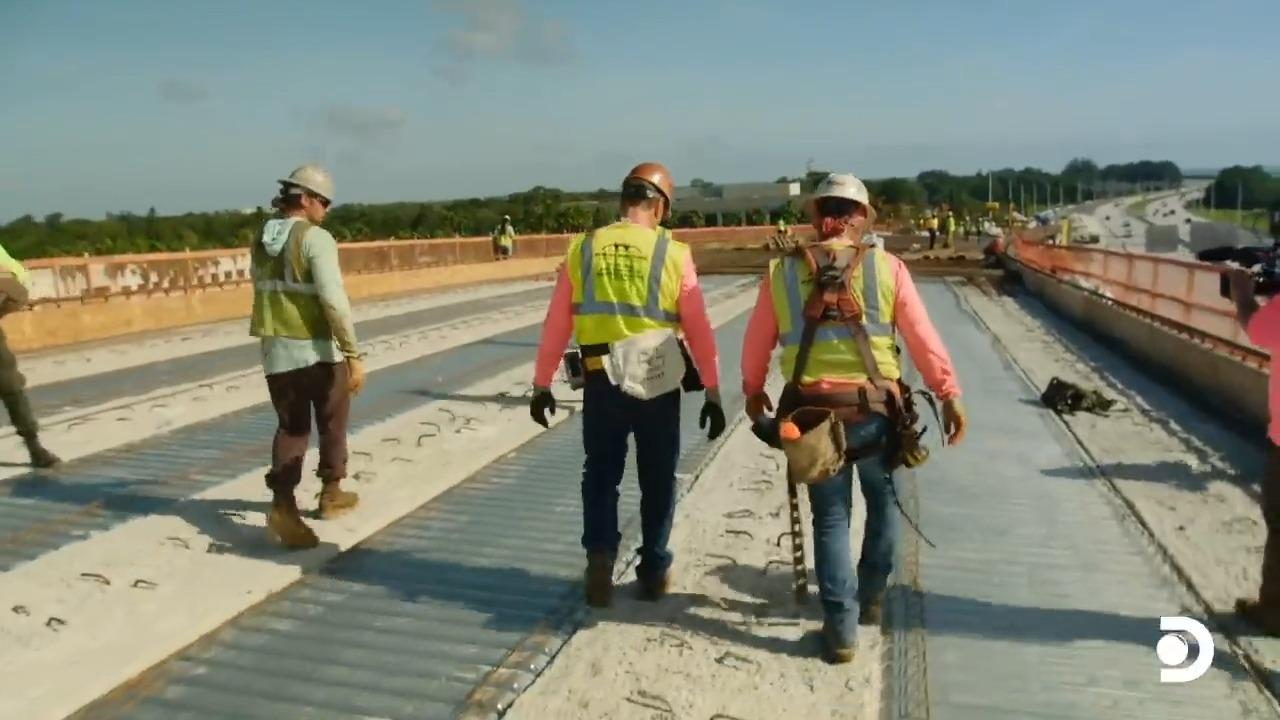Gloves: (697, 397, 733, 450), (523, 386, 557, 436), (939, 391, 970, 443)
Helmet: (621, 161, 674, 221), (276, 164, 334, 203), (813, 172, 869, 206)
Person: (740, 171, 966, 663), (529, 161, 725, 607), (248, 164, 365, 549), (492, 215, 514, 260)
Safety Boot: (264, 497, 315, 540), (812, 625, 864, 667), (575, 569, 621, 608), (309, 487, 365, 518), (854, 596, 893, 631), (638, 562, 670, 597)
Safety Vest: (572, 242, 671, 353), (249, 236, 320, 344)
